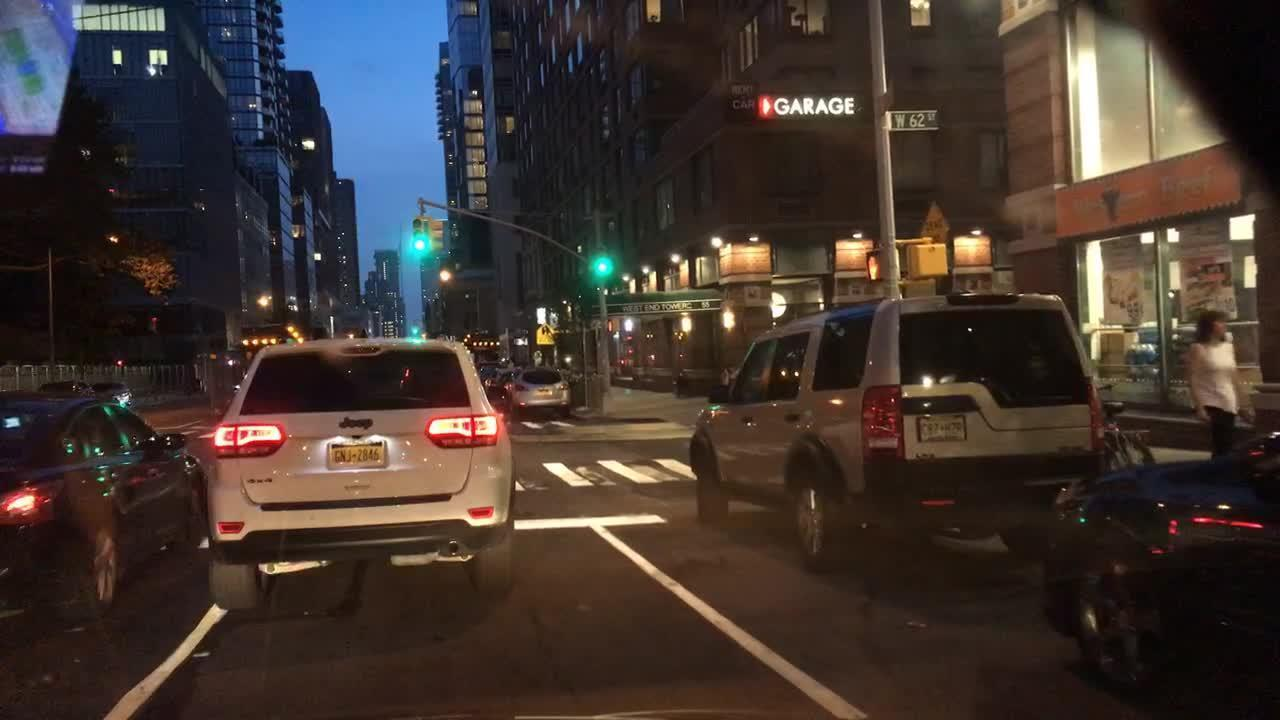jeep: (332, 411, 380, 437)
